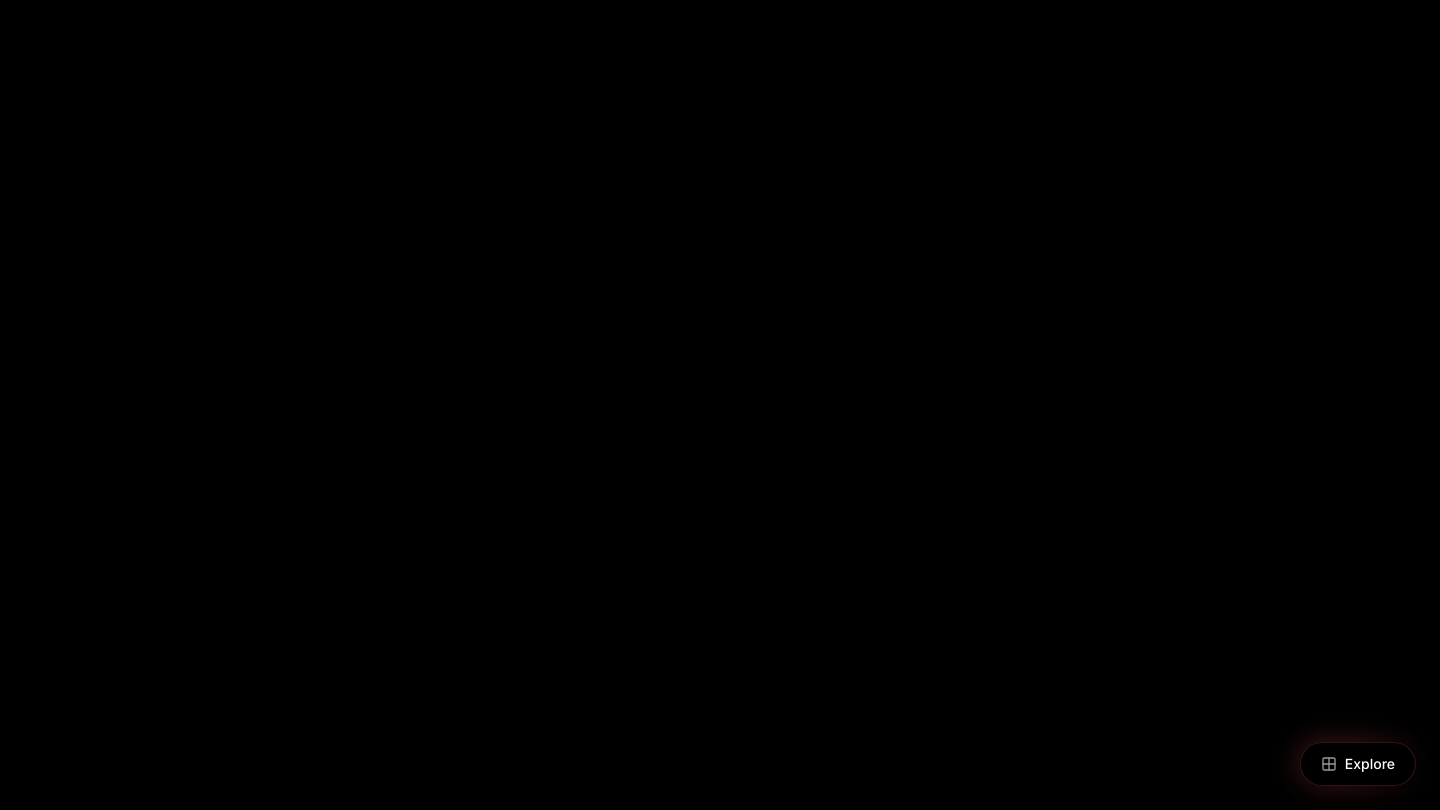
ExploreFeatures — Interview Prep flag gate › when VITE_FEATURE_INTERVIEW_PREP is on › renders the Interview Prep tile enabled with no badge and navigates on click
Later steps or results of the test are not shown.
Click the button with aria-label "Explore Features": (1358, 764) [1300,742,1416,786]
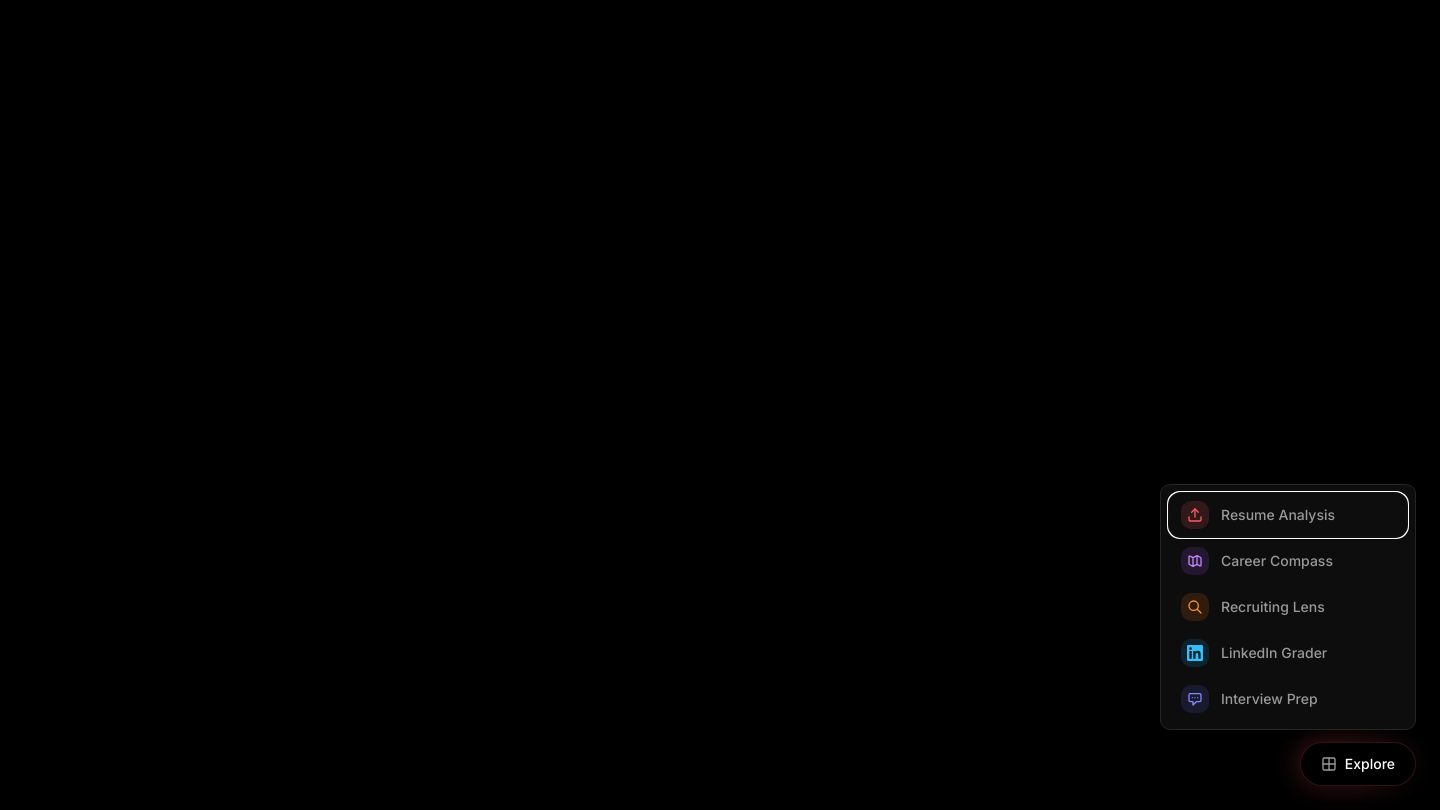
Check: the button "Interview Prep" is enabled, box [1169,677,1407,721]
